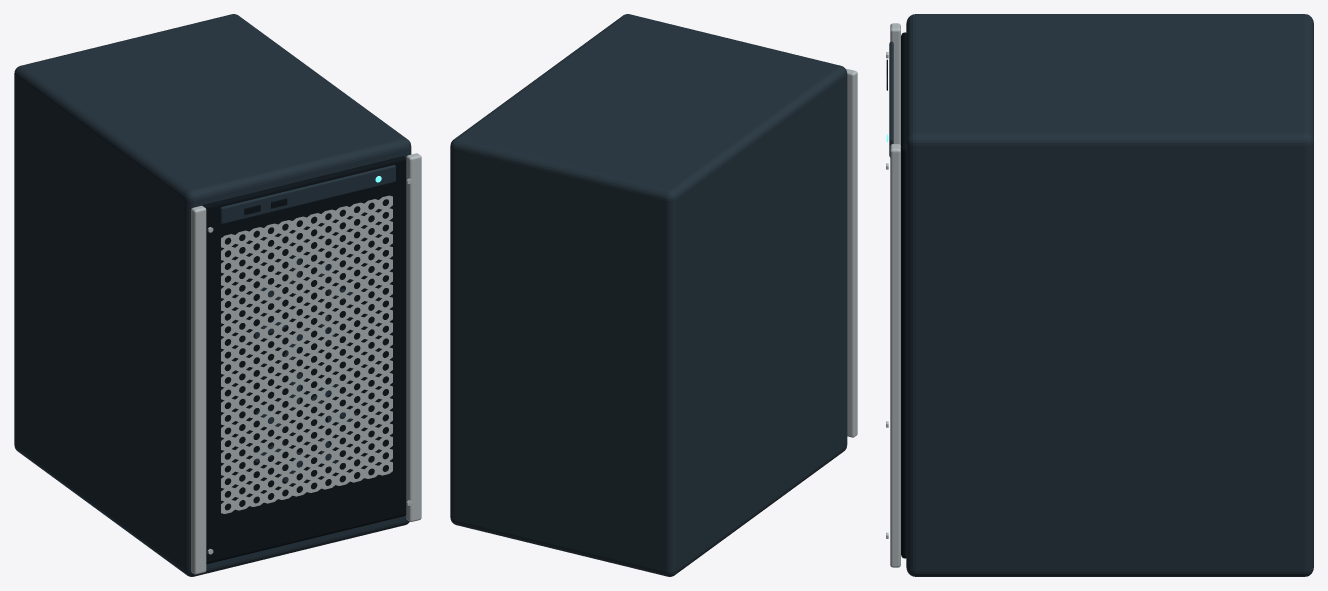
Rendered from server.glb.
3 views of the same model, side by side, from view 1: azimuth 30°, elevation 25°; view 2: azimuth 150°, elevation 25°; view 3: azimuth 270°, elevation 25° (orthographic). The views are drawn at different scales.
Visible parts, largest first — view 1: ServerChassis, PerforatedAluminum, FrontRecess, FrontRail, FrontRail.001, TopControlStrip, FanHub.001, FanHub; view 2: ServerChassis, FrontRail; view 3: ServerChassis, FrontRail.001, FrontRecess, FrontRail, TopControlStrip.
Part boxes in pixels (box(x1,y1,x2,y2)): ServerChassis: box(14, 14, 411, 576); PerforatedAluminum: box(221, 195, 392, 513); FrontRecess: box(200, 156, 406, 564); FrontRail: box(191, 205, 206, 574); FrontRail.001: box(406, 153, 421, 521); TopControlStrip: box(220, 165, 395, 224); FanHub.001: box(280, 278, 327, 328); FanHub: box(281, 402, 327, 452); ServerChassis: box(450, 14, 847, 576); FrontRail: box(846, 69, 857, 437); ServerChassis: box(906, 14, 1313, 576); FrontRail.001: box(890, 144, 900, 567); FrontRecess: box(901, 32, 906, 558); FrontRail: box(890, 23, 900, 145); TopControlStrip: box(889, 41, 893, 157).
Size of the model in its own units: 0.222 by 0.365 by 0.315.
